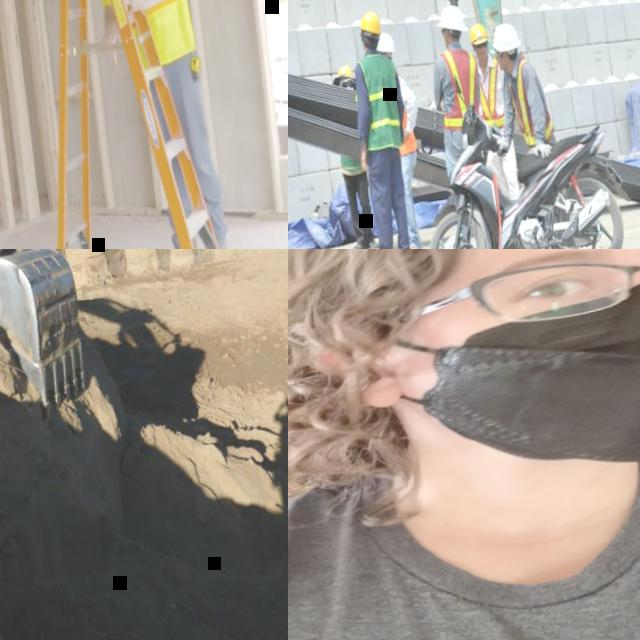Hardhat: (436, 2, 467, 34), (490, 21, 521, 51), (467, 22, 490, 47), (359, 10, 380, 35), (375, 33, 395, 56), (333, 64, 355, 82)
Mask: (364, 273, 640, 493)
NO-Mask: (496, 57, 510, 71), (478, 48, 490, 61), (441, 38, 451, 48)
NO-Safety Vest: (288, 419, 640, 640)
Person: (288, 249, 640, 640), (97, 0, 236, 249), (336, 6, 425, 249), (420, 0, 503, 249), (487, 17, 575, 249), (369, 30, 437, 249), (466, 18, 527, 249), (325, 60, 379, 249)
Safety Vest: (504, 51, 558, 150), (356, 49, 405, 150), (432, 44, 484, 131), (330, 86, 366, 178), (471, 52, 510, 130), (394, 104, 420, 157)
vehicle: (412, 0, 640, 212), (0, 249, 95, 425)
